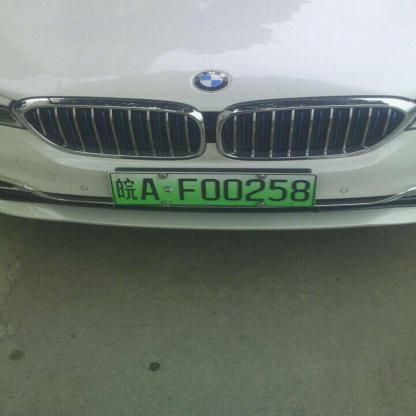lp: (111, 173, 316, 206)
